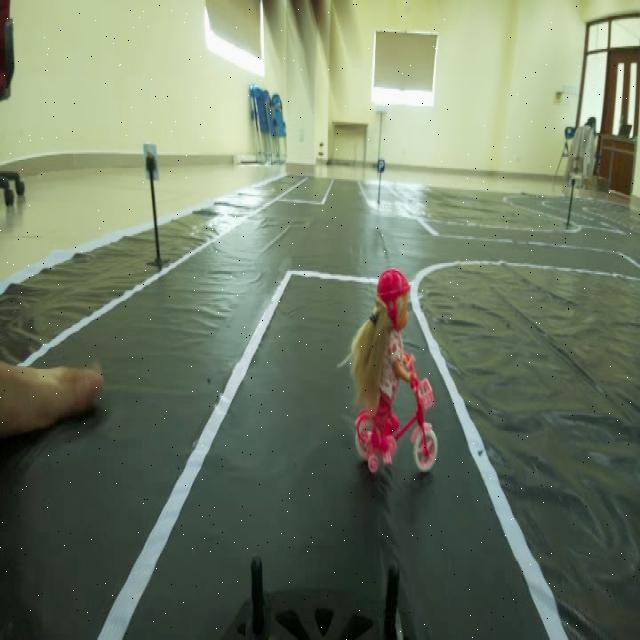pedestrian: (337, 254, 451, 473)
